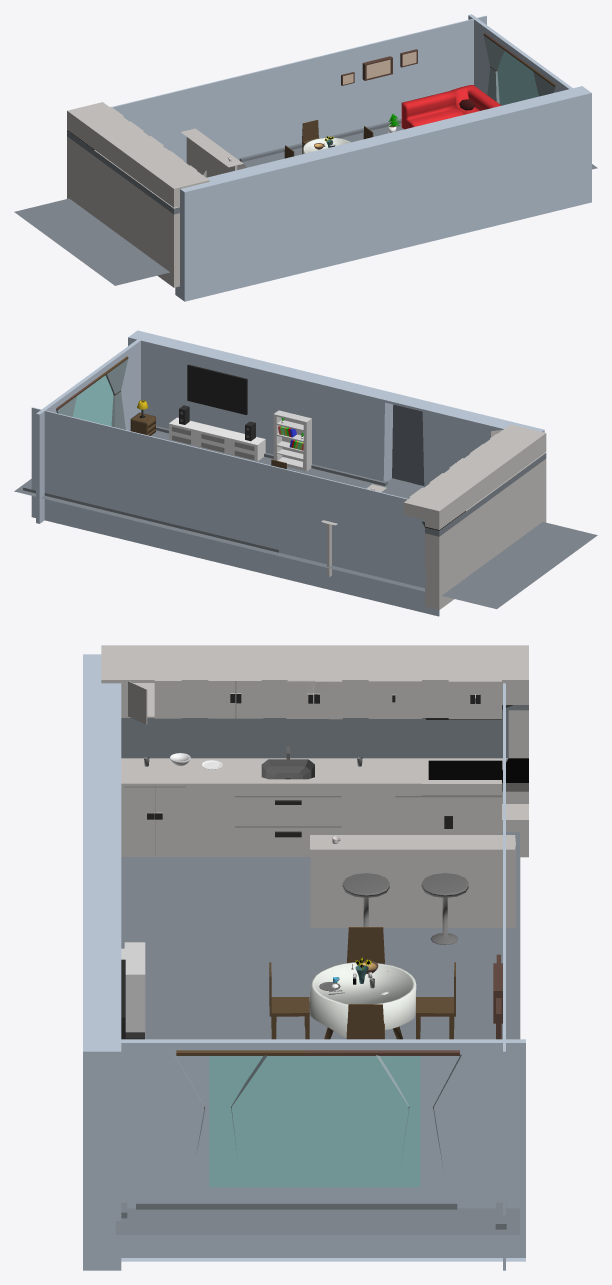
The model's file is Casa 1.fbx.
3 renders of one model, top to bottom at view 1: azimuth 30°, elevation 25°; view 2: azimuth 150°, elevation 25°; view 3: azimuth 270°, elevation 25°, orthographic. The views are drawn at different scales.
Visible parts, largest first — view 1: Cube.003, Cube.006, Cube.017, Plane, Cube.010, Cube.016, Cube.001, Cylinder.001, Cube, Cube.011, Cube.008, Cylinder.002; view 2: Cube.006, Cube.003, Cube.017, Plane, Cube.010, Cube.004, Cube.014, Cube.015, Cylinder.002, Cube.011, Cube.012, Cube.005 (+1 smaller); view 3: Cube.017, Cube.010, Plane, Cube.003, Cube.016, Cube.090, Cube.013, Cube.015, Cube.006, Sphere.016, Cube.086, Cylinder.001 (+5 smaller).
Part boxes in pixels (x1=…): Cube.003: x1=175, y1=86, x2=591, y2=301; Cube.006: x1=112, y1=15, x2=486, y2=162; Cube.017: x1=67, y1=102, x2=209, y2=287; Plane: x1=14, y1=123, x2=597, y2=285; Cube.010: x1=468, y1=14, x2=577, y2=105; Cube.016: x1=181, y1=128, x2=243, y2=177; Cube.001: x1=401, y1=91, x2=463, y2=129; Cylinder.001: x1=483, y1=33, x2=523, y2=103; Cube: x1=451, y1=85, x2=501, y2=114; Cube.011: x1=239, y1=119, x2=401, y2=162; Cube.008: x1=362, y1=56, x2=392, y2=80; Cylinder.002: x1=514, y1=55, x2=555, y2=96; Cube.006: x1=31, y1=407, x2=439, y2=616; Cube.003: x1=128, y1=330, x2=544, y2=490; Cube.017: x1=403, y1=424, x2=546, y2=609; Plane: x1=14, y1=430, x2=597, y2=609; Cube.010: x1=36, y1=336, x2=144, y2=523; Cube.004: x1=187, y1=364, x2=247, y2=414; Cube.014: x1=169, y1=417, x2=265, y2=461; Cube.015: x1=273, y1=410, x2=311, y2=471; Cylinder.002: x1=89, y1=356, x2=128, y2=429; Cube.011: x1=23, y1=485, x2=278, y2=552; Cube.012: x1=156, y1=426, x2=387, y2=485; Cube.005: x1=130, y1=412, x2=155, y2=435; Cube.017: x1=101, y1=645, x2=528, y2=857; Cube.010: x1=103, y1=1039, x2=525, y2=1261; Plane: x1=115, y1=831, x2=520, y2=1234; Cube.003: x1=83, y1=654, x2=121, y2=1270; Cube.016: x1=310, y1=835, x2=515, y2=927; Cube.090: x1=309, y1=962, x2=416, y2=1039; Cube.013: x1=136, y1=1202, x2=457, y2=1209; Cube.015: x1=121, y1=942, x2=145, y2=1038; Cube.006: x1=503, y1=683, x2=505, y2=1270; Sphere.016: x1=421, y1=873, x2=468, y2=944; Cube.086: x1=346, y1=1004, x2=384, y2=1039; Cylinder.001: x1=304, y1=1050, x2=461, y2=1169.
Size of the model in its own units: 6759 by 1485 by 2701.
